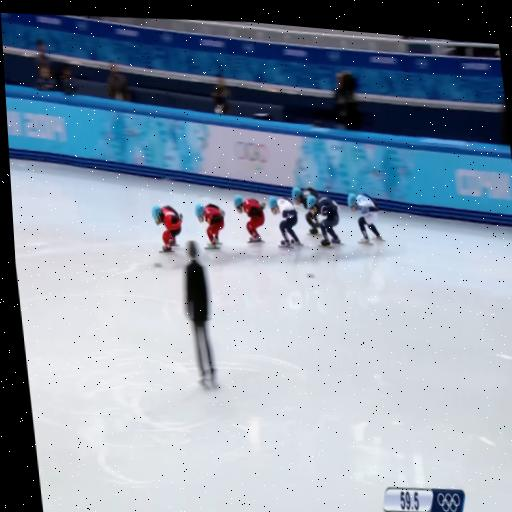Skater: (348, 193, 383, 244), (307, 196, 341, 247), (269, 197, 301, 247), (234, 195, 265, 242), (195, 204, 225, 249), (153, 206, 182, 252), (292, 187, 320, 209)
